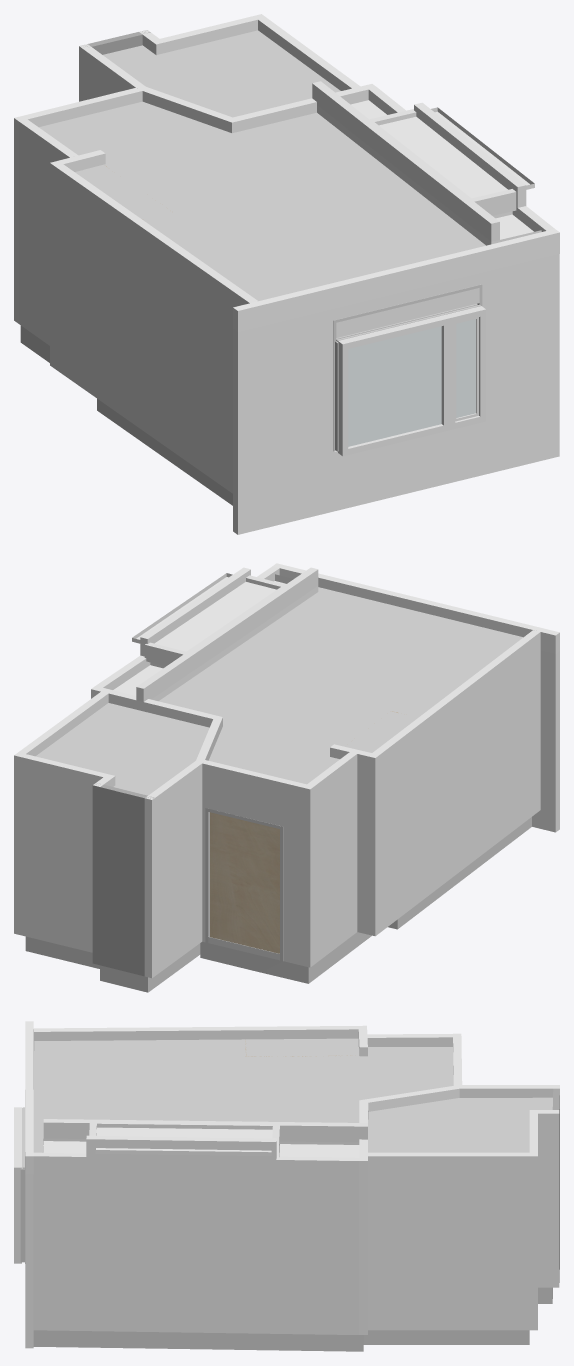
The model's file is residentRoom8.glb.
3 renders of one model, top to bottom at view 1: azimuth 30°, elevation 25°; view 2: azimuth 150°, elevation 25°; view 3: azimuth 270°, elevation 25°, orthographic. The views are drawn at different scales.
Visible parts, largest first — view 1: CEILING, WALL, WALL_12, WINDOW, WALL_13, WALL_10, WINDOW FRAME_2, LIGHT COVE_3, LIGHT COVE_2, WALL_2, LIGHT COVE, FLOOR (+10 smaller); view 2: CEILING, WALL_12, WALL_5, WALL_7, WALL_2, WALL_14, DOOR, WALL_10, FLOOR, LIGHT COVE_3, WALL_13, WALL (+9 smaller); view 3: WALL_9, CEILING, WALL_4, FLOOR, WALL_12, WALL_6, LIGHT COVE_3, LIGHT COVE_4, LIGHT COVE_2, WALL_8, WALL_5, LIGHT COVE (+8 smaller).
Part boxes in pixels (bbox=[...]): CEILING: bbox=[39, 30, 485, 301]; WALL: bbox=[233, 254, 559, 534]; WALL_12: bbox=[50, 161, 257, 493]; WINDOW: bbox=[348, 319, 475, 446]; WALL_13: bbox=[233, 229, 559, 332]; WALL_10: bbox=[19, 119, 78, 345]; WINDOW FRAME_2: bbox=[338, 306, 485, 456]; LIGHT COVE_3: bbox=[312, 81, 516, 241]; LIGHT COVE_2: bbox=[375, 107, 534, 198]; WALL_2: bbox=[14, 88, 140, 323]; LIGHT COVE: bbox=[317, 100, 541, 245]; FLOOR: bbox=[20, 325, 232, 505]; CEILING: bbox=[35, 587, 522, 795]; WALL_12: bbox=[368, 630, 540, 936]; WALL_5: bbox=[14, 752, 107, 952]; WALL_7: bbox=[144, 758, 205, 978]; WALL_2: bbox=[202, 760, 314, 967]; WALL_14: bbox=[92, 783, 154, 976]; DOOR: bbox=[210, 812, 279, 953]; WALL_10: bbox=[307, 752, 357, 963]; FLOOR: bbox=[25, 817, 531, 992]; LIGHT COVE_3: bbox=[136, 567, 318, 701]; WALL_13: bbox=[273, 563, 559, 654]; WALL: bbox=[532, 651, 559, 832]; WALL_9: bbox=[33, 1152, 359, 1334]; CEILING: bbox=[33, 1038, 552, 1152]; WALL_4: bbox=[368, 1152, 529, 1330]; FLOOR: bbox=[33, 1287, 552, 1351]; WALL_12: bbox=[33, 1025, 366, 1089]; WALL_6: bbox=[529, 1110, 559, 1287]; LIGHT COVE_3: bbox=[43, 1119, 367, 1156]; LIGHT COVE_4: bbox=[86, 1135, 276, 1159]; LIGHT COVE_2: bbox=[95, 1123, 272, 1155]; WALL_8: bbox=[359, 1100, 368, 1334]; WALL_5: bbox=[529, 1113, 537, 1330]; LIGHT COVE: bbox=[43, 1138, 359, 1157].
Size of the model in its own units: 5.13 by 3.5 by 8.23.
Materials: 41 (7 with a texture image).
